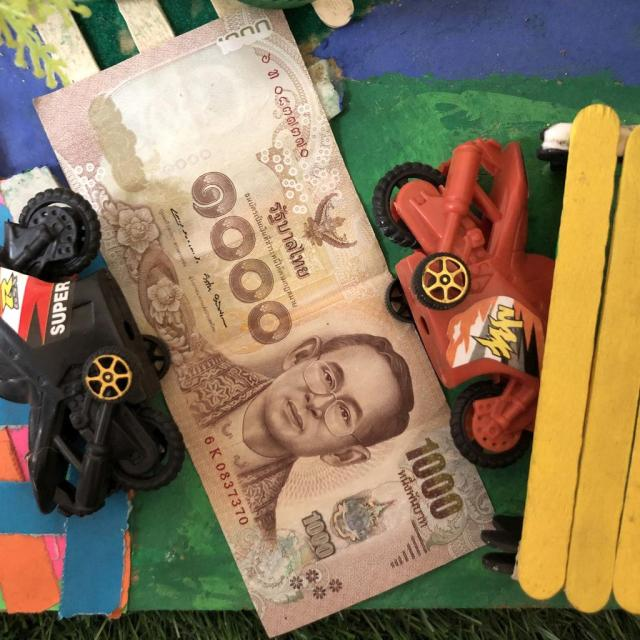THAI1000: (36, 5, 492, 635)
